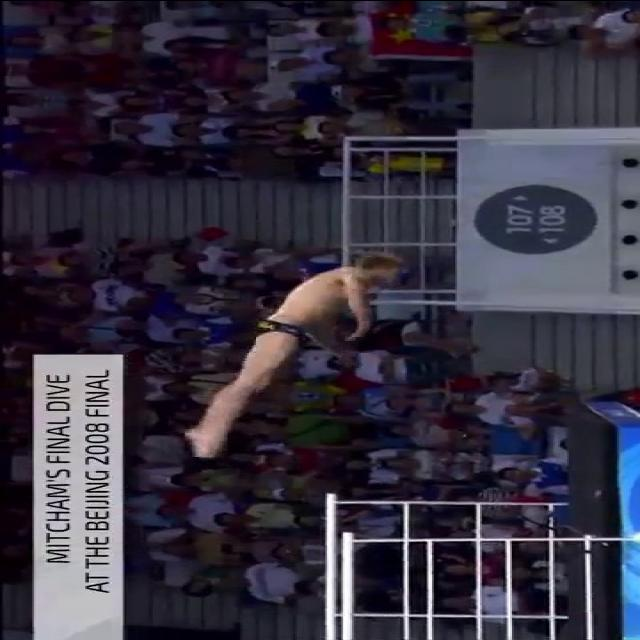NonViolence: (182, 251, 406, 459)
